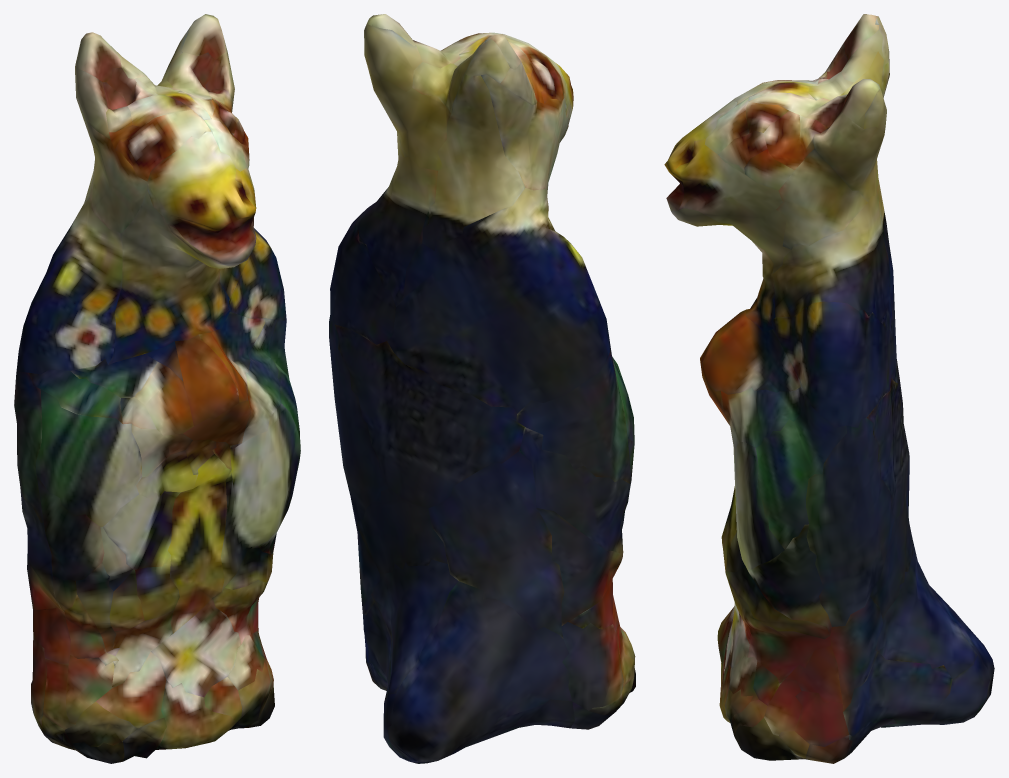
Rendered from hall.glb.
The picture shows the model from 3 angles, left to right: view 1: azimuth 30°, elevation 25°; view 2: azimuth 150°, elevation 25°; view 3: azimuth 270°, elevation 25°; orthographic projection. The views are drawn at different scales.
Bounding box in the file's own units: 0.2438 × 0.5905 × 0.2568.
Materials: 1 (1 with a texture image).
